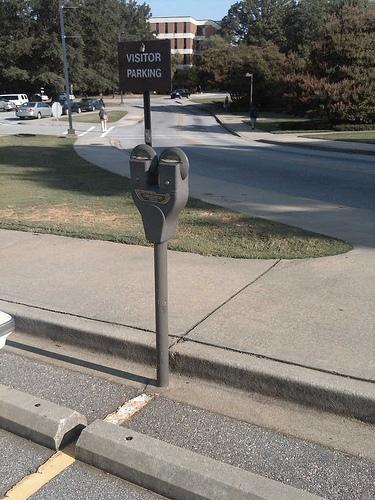car: (16, 102, 53, 120), (62, 98, 82, 118), (0, 94, 29, 107), (81, 98, 105, 112), (170, 88, 192, 100), (0, 98, 16, 112)
